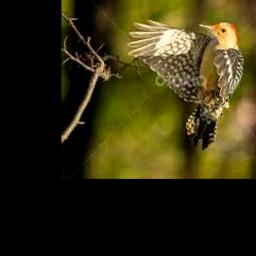Woodpecker: (128, 20, 245, 150)
